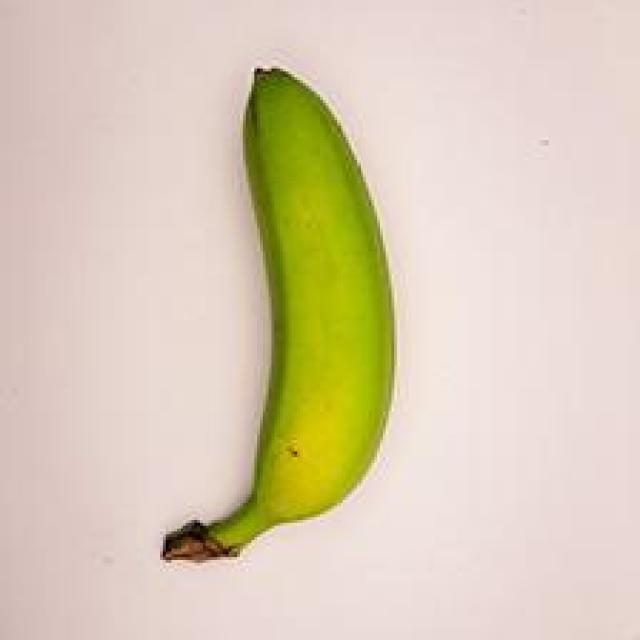unripe: (131, 26, 433, 571)
